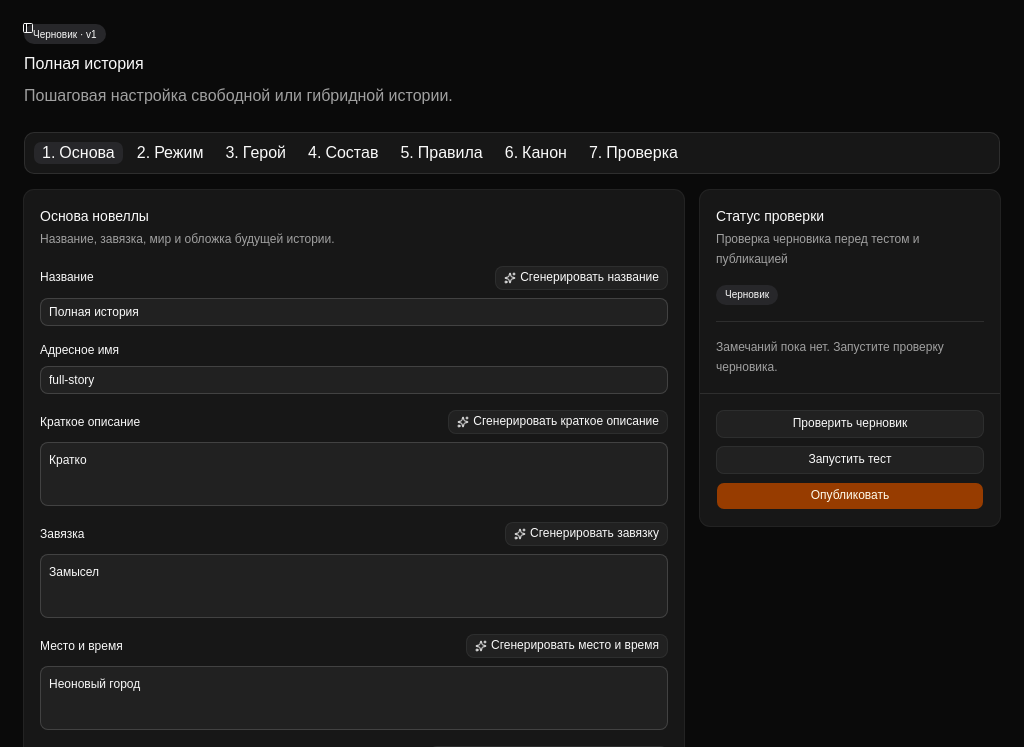
Test: review renders every persisted authoring field in stable readable order
The width and height of the screenshot is (1024, 747).
Step 1. Click the button "7. Проверка" → (633, 153), box [580,141,687,165]
(page scrolled)
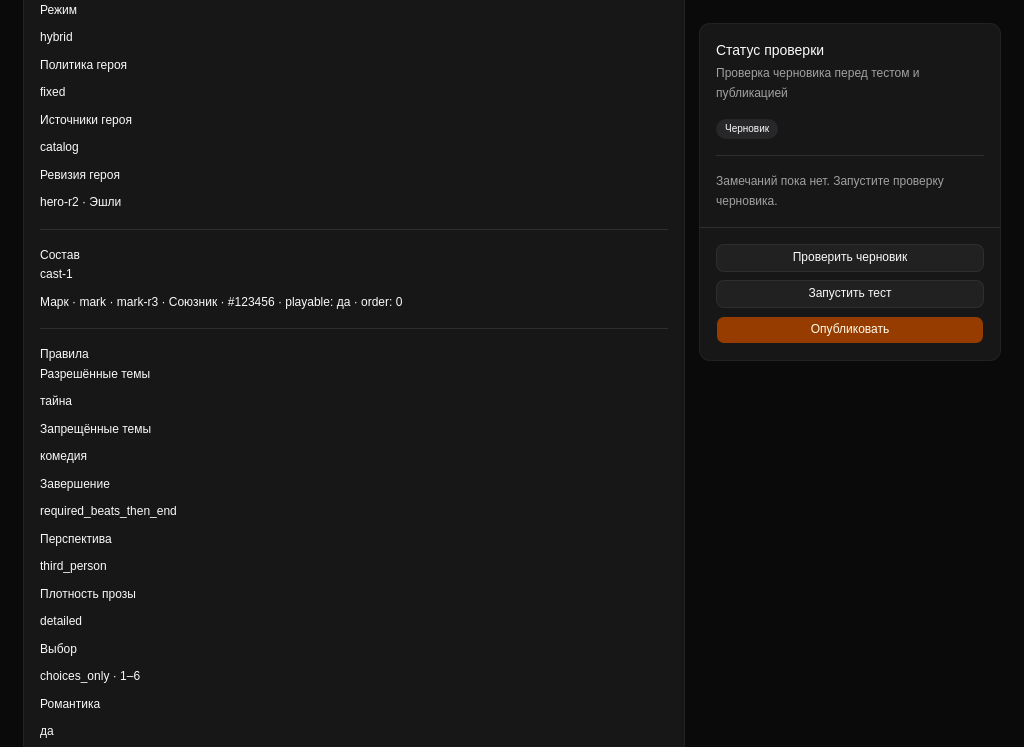
Check: the element named "Полная история" shows "Эшли", box [79,195,121,209]
Check: the element named "Полная история" shows "hero-r2", box [40,195,79,209]
Check: the element named "Полная история" shows "Марк", box [40,294,69,308]
